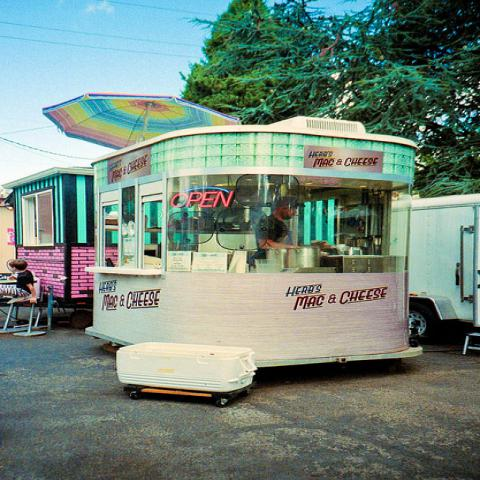truck: (408, 192, 478, 346)
